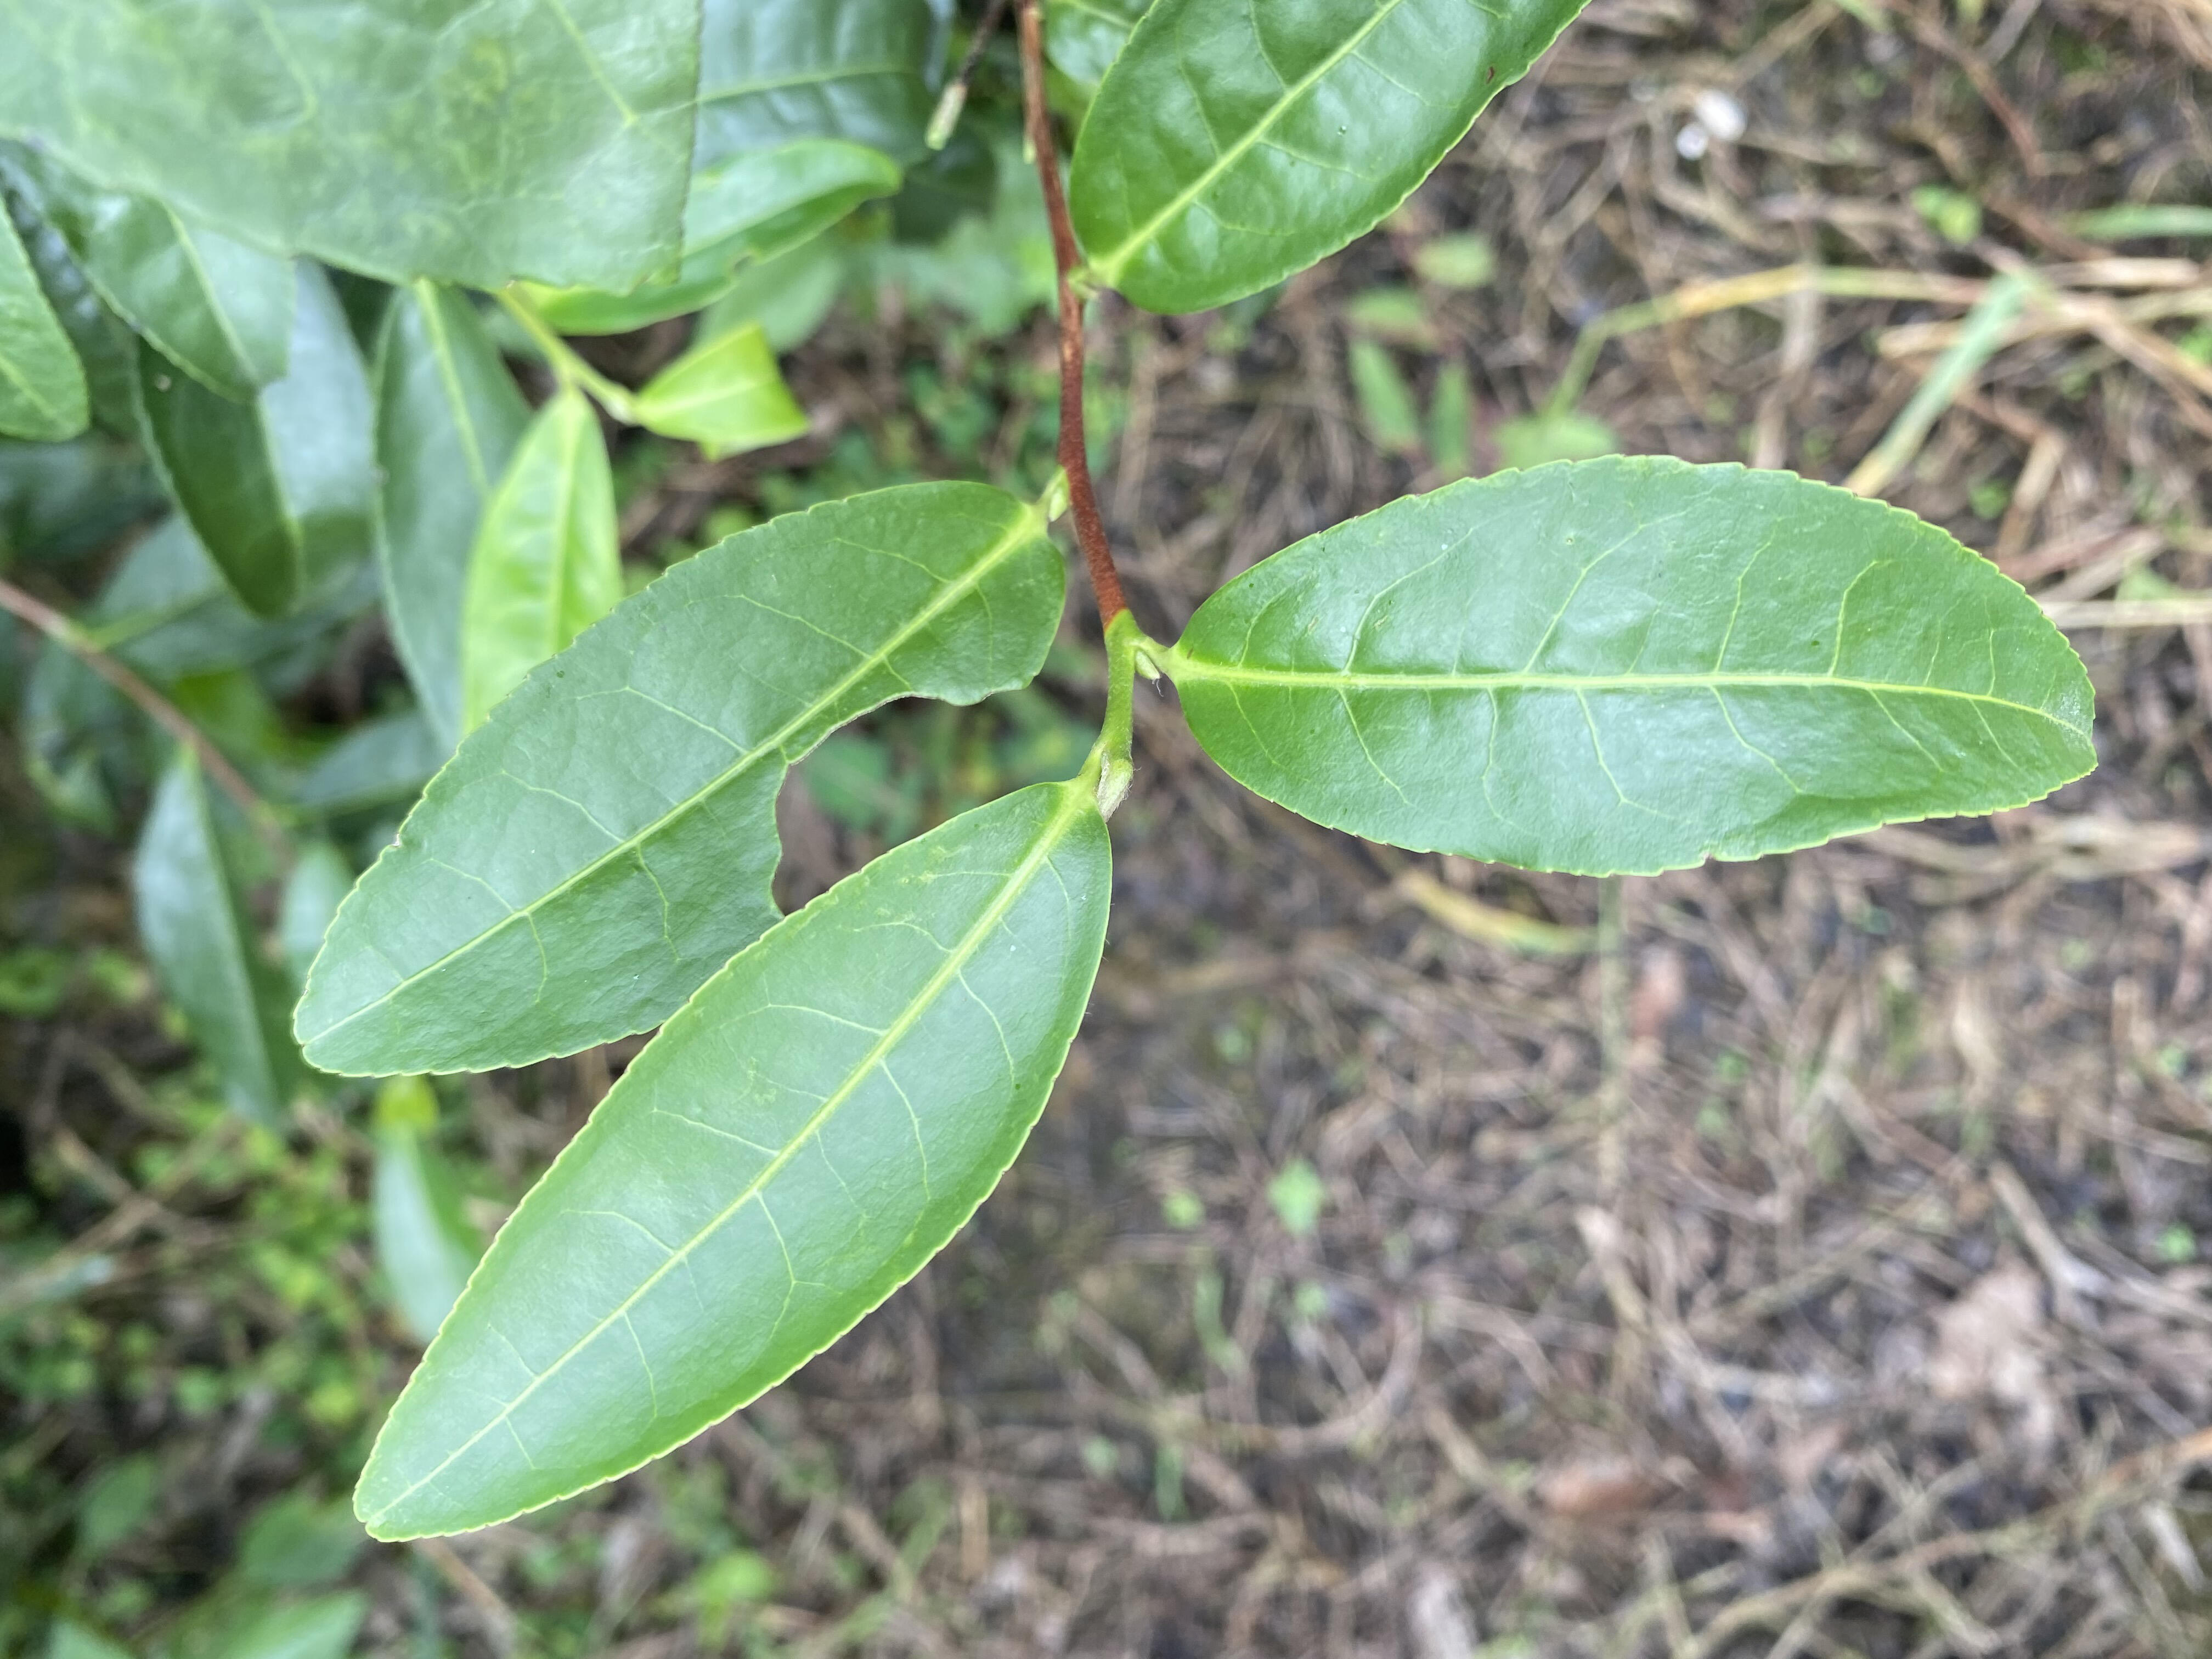chihuo_low: (287, 477, 1069, 1080)
healthy: (350, 777, 1118, 1544), (1165, 453, 2104, 880), (1066, 3, 1594, 326)
